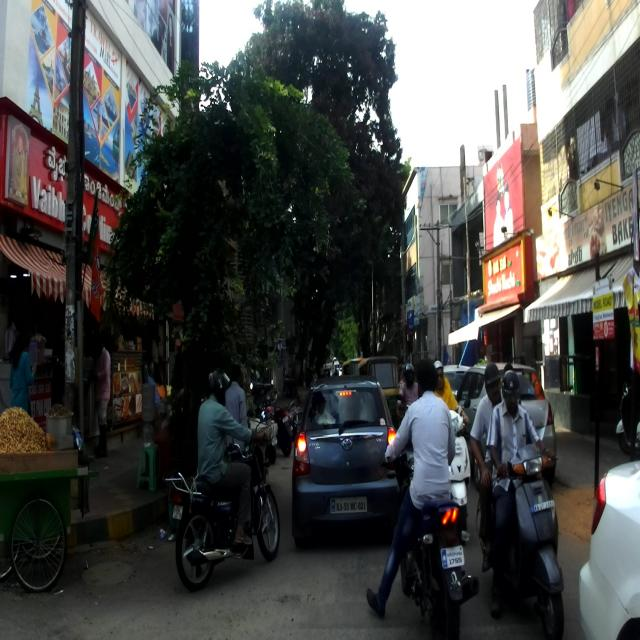Car_Maruti-Suzuki: (454, 361, 556, 489)
Car_Toyota: (290, 374, 400, 550)
motorcycle_Hero: (162, 407, 280, 593)
motorcycle_bajaj: (380, 436, 479, 640)
scooter: (474, 442, 566, 640)
